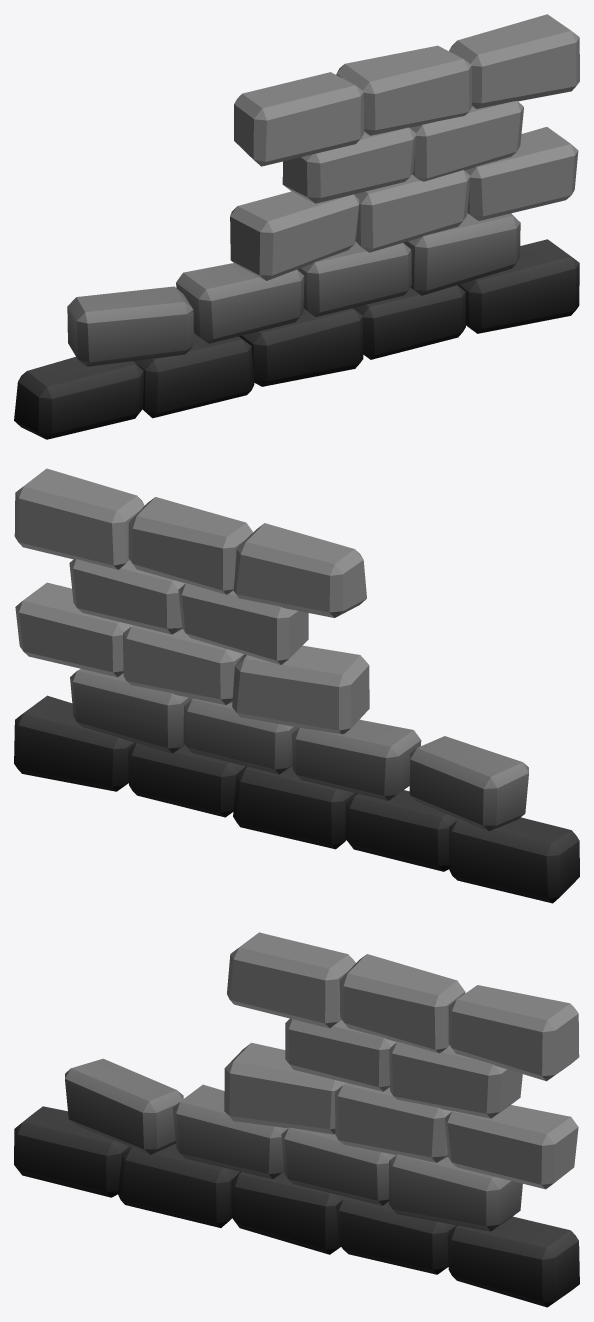
Rendered from BrickWall2x1_01_End_Broken_L.fbx.
The picture shows the model from 3 angles, top to bottom: view 1: azimuth 30°, elevation 25°; view 2: azimuth 150°, elevation 25°; view 3: azimuth 330°, elevation 25°; orthographic projection.
Parts seen in each view (by area): view 1: BrickWall2x1_01_End_Broken_L; view 2: BrickWall2x1_01_End_Broken_L; view 3: BrickWall2x1_01_End_Broken_L.
Part boxes in pixels (x1,y1,x2,y2): BrickWall2x1_01_End_Broken_L: (14,14,579,439); BrickWall2x1_01_End_Broken_L: (14,468,579,903); BrickWall2x1_01_End_Broken_L: (14,932,579,1307).
Size of the model in its own units: 201 by 101 by 26.04.
